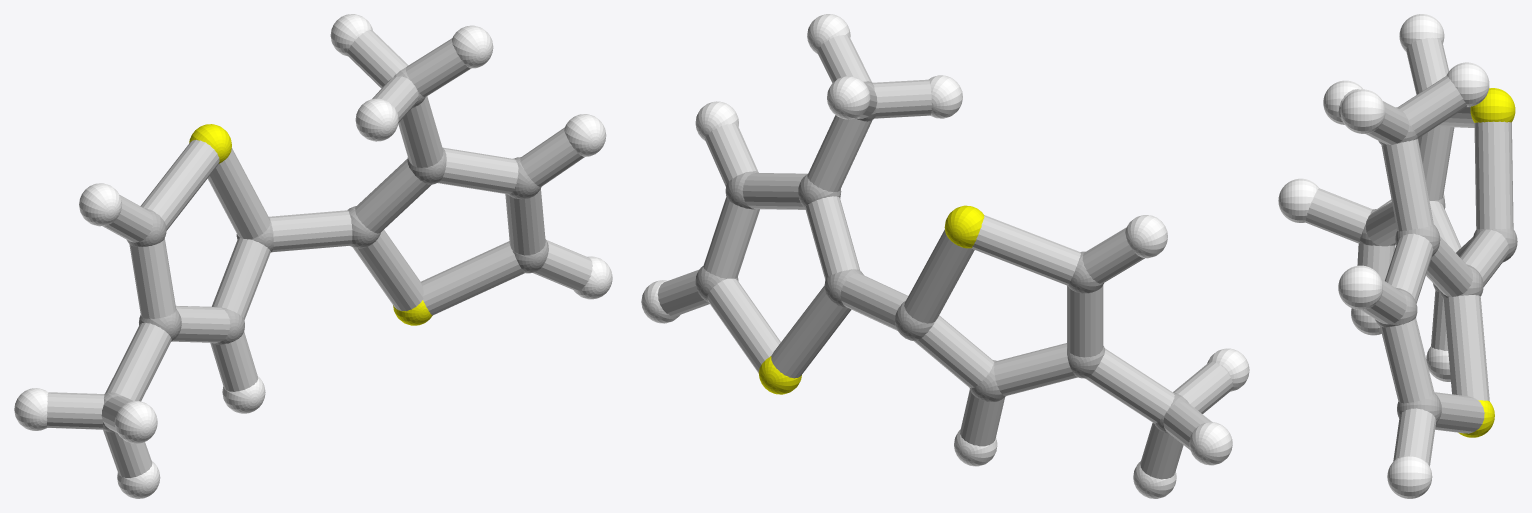
The model's file is Methylthiophene_Phi_40_Theta_30_Methylthiophene.glb.
3 renders of one model, left to right at view 1: azimuth 30°, elevation 25°; view 2: azimuth 150°, elevation 25°; view 3: azimuth 270°, elevation 25°, orthographic. The views are drawn at different scales.
Parts seen in each view (by area): view 1: grp7965, grp3621, grp1, grp7241; view 2: grp7965, grp3621, grp1, grp7241; view 3: grp7965, grp3621, grp1, grp7241.
Boxes of the visible parts, left/top/right/bottom form: grp7965: left=47, top=29, right=592, bottom=477; grp3621: left=14, top=14, right=612, bottom=498; grp1: left=103, top=67, right=548, bottom=432; grp7241: left=189, top=124, right=432, bottom=325; grp7965: left=657, top=35, right=1233, bottom=479; grp3621: left=641, top=14, right=1249, bottom=498; grp1: left=695, top=81, right=1190, bottom=434; grp7241: left=758, top=205, right=984, bottom=394; grp7965: left=1305, top=37, right=1513, bottom=466; grp3621: left=1278, top=14, right=1489, bottom=498; grp1: left=1359, top=107, right=1517, bottom=423; grp7241: left=1458, top=88, right=1515, bottom=437.
Bounding box in the file's own units: 9.41 × 6.03 × 3.2.
